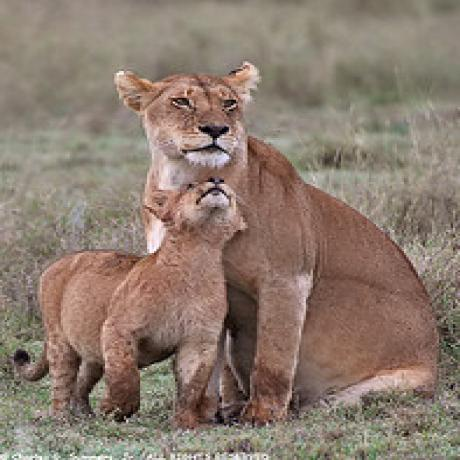Lion: (117, 63, 437, 411), (11, 177, 246, 425)
